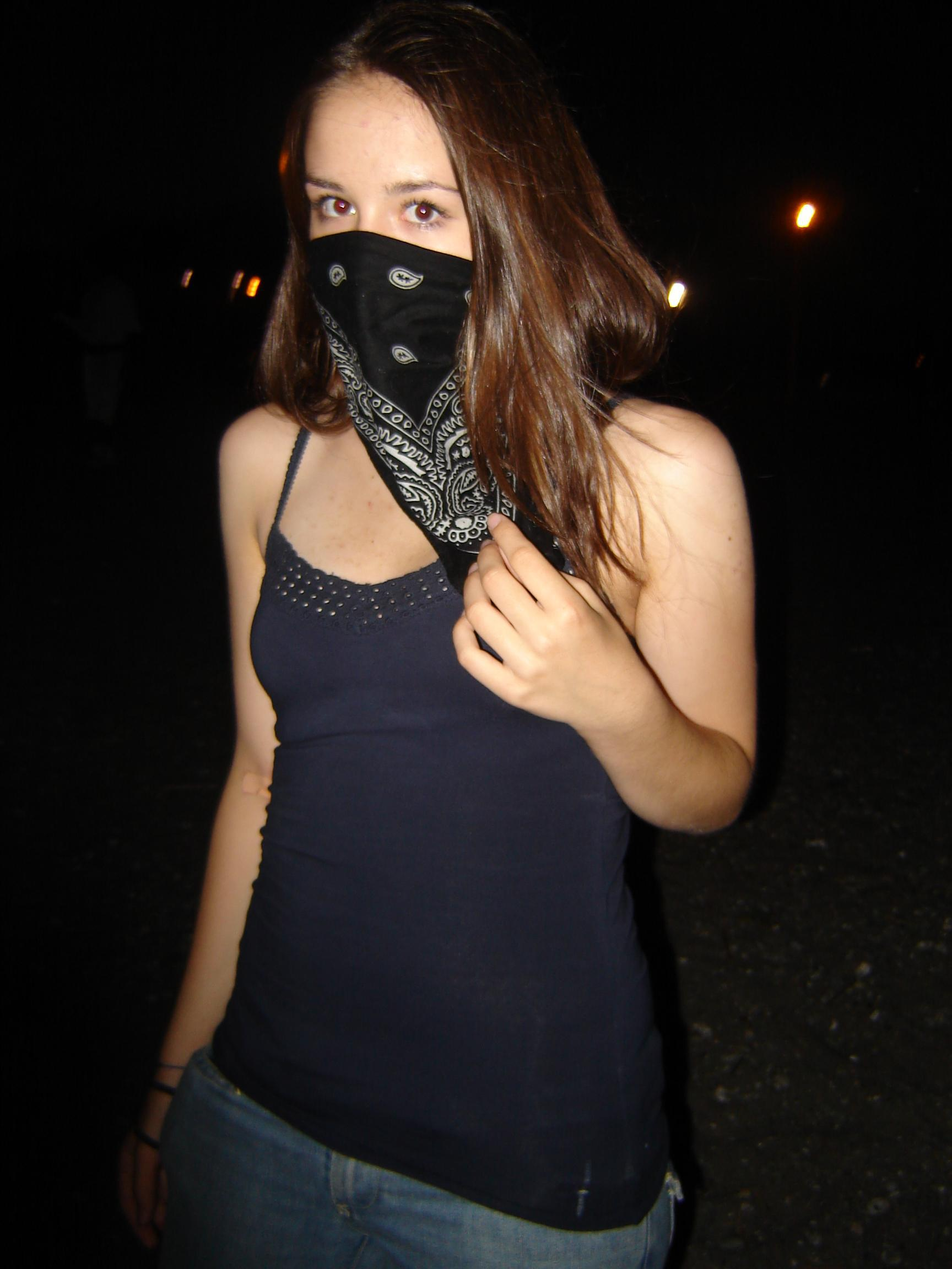OK: (296, 169, 497, 395)
